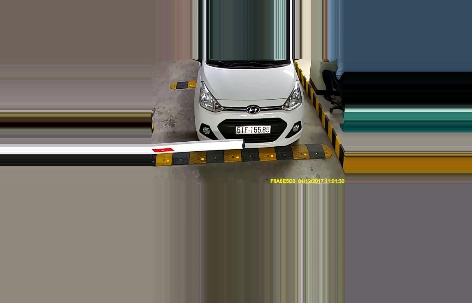plate: (234, 122, 271, 137)
